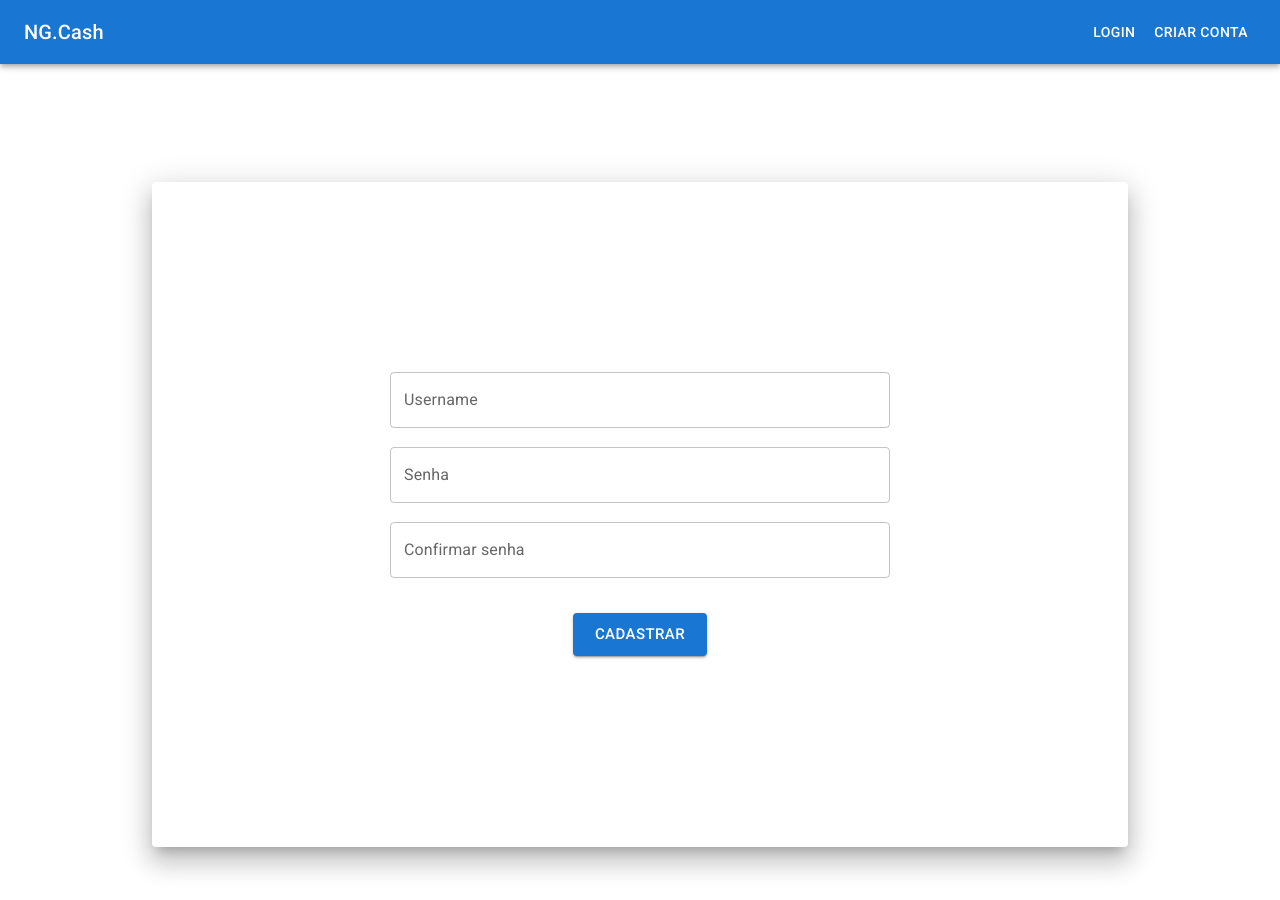
Test: Register page › App behavior › Should not allow create an account without invalid password format
The width and height of the screenshot is (1280, 900).
In the field labelled "Username": (640, 400) [390,372,890,428], type "user"
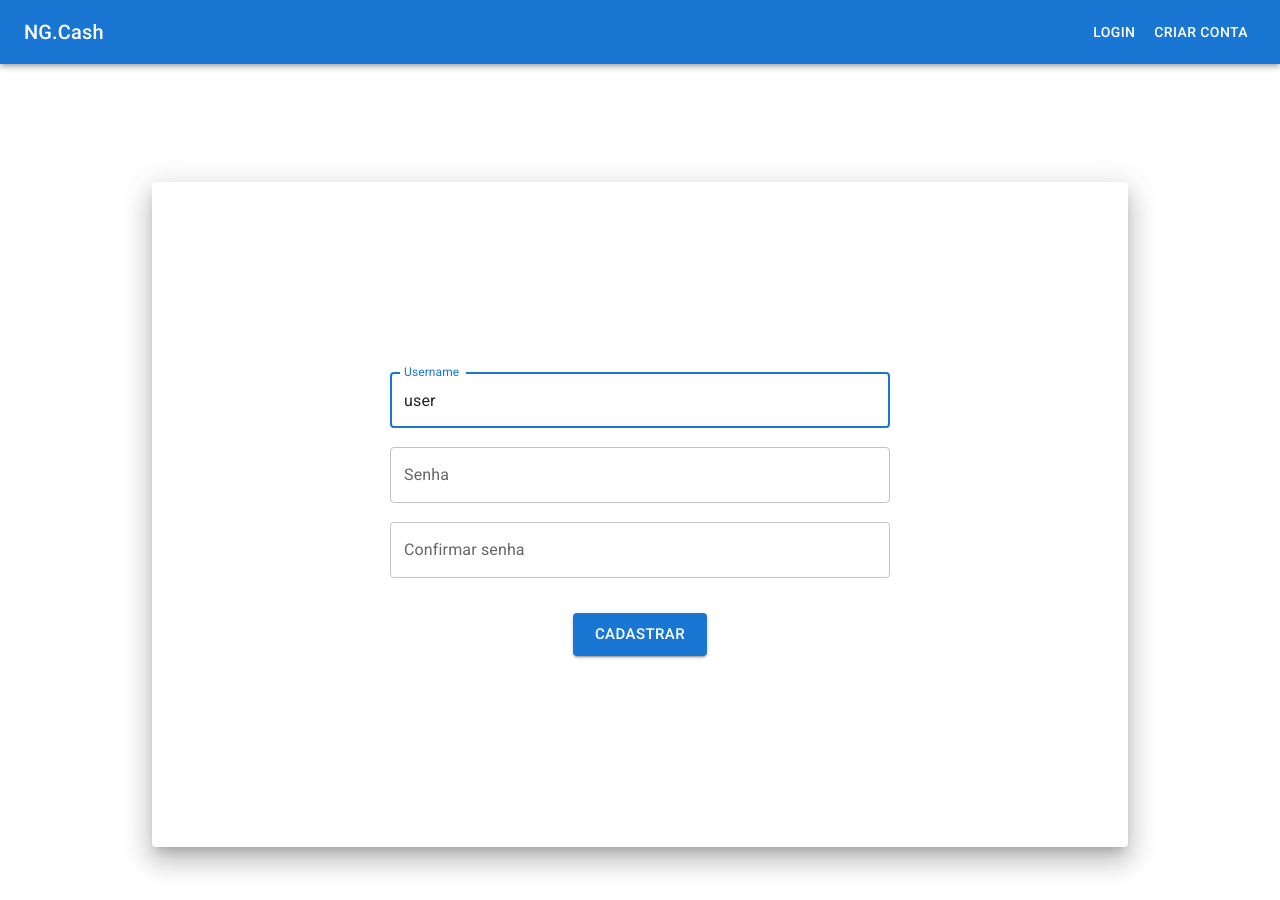
In the password field labelled "Senha": (640, 475) [390,447,890,503], type "user1234"
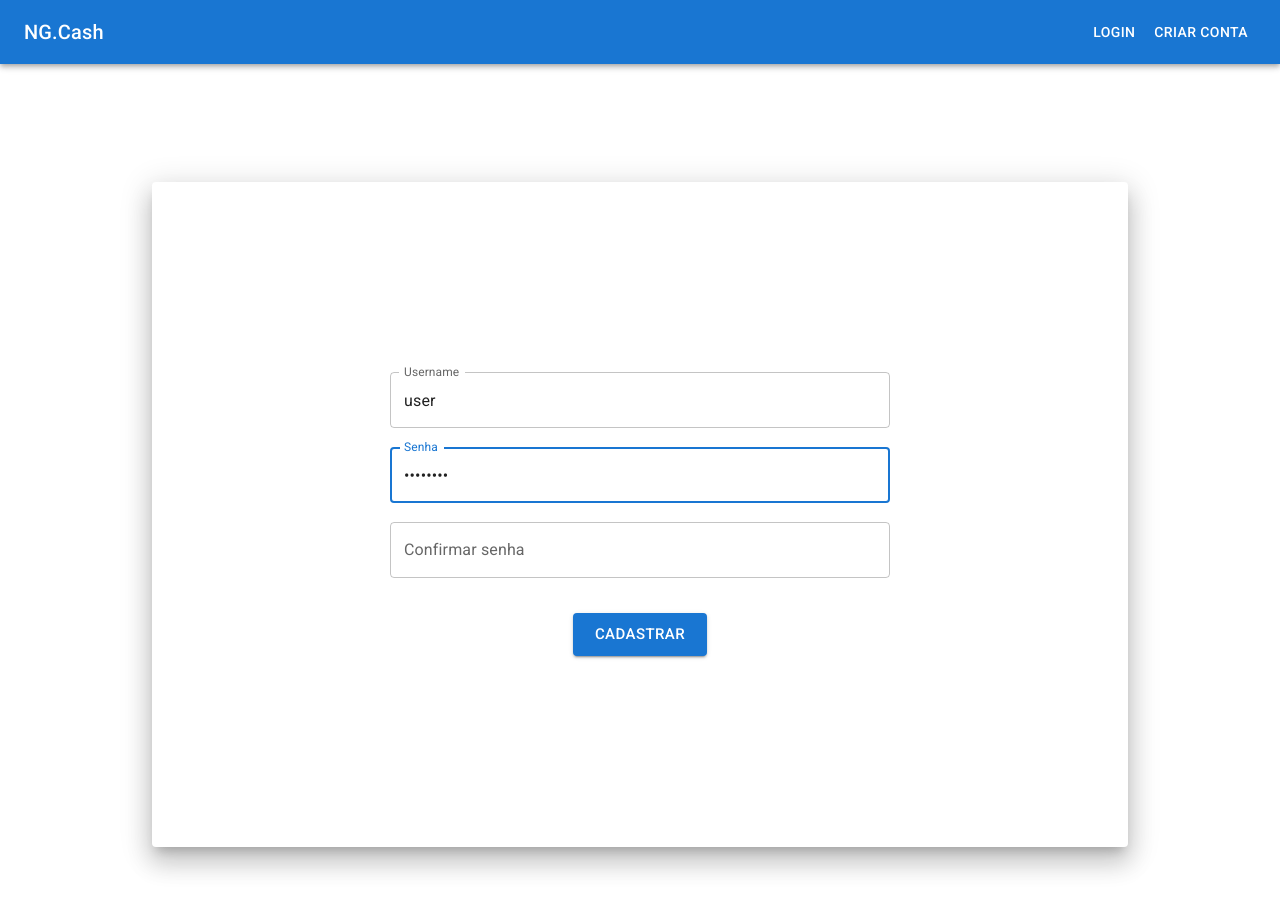
In the password field labelled "Confirmar senha": (640, 550) [390,522,890,578], type "user1234"
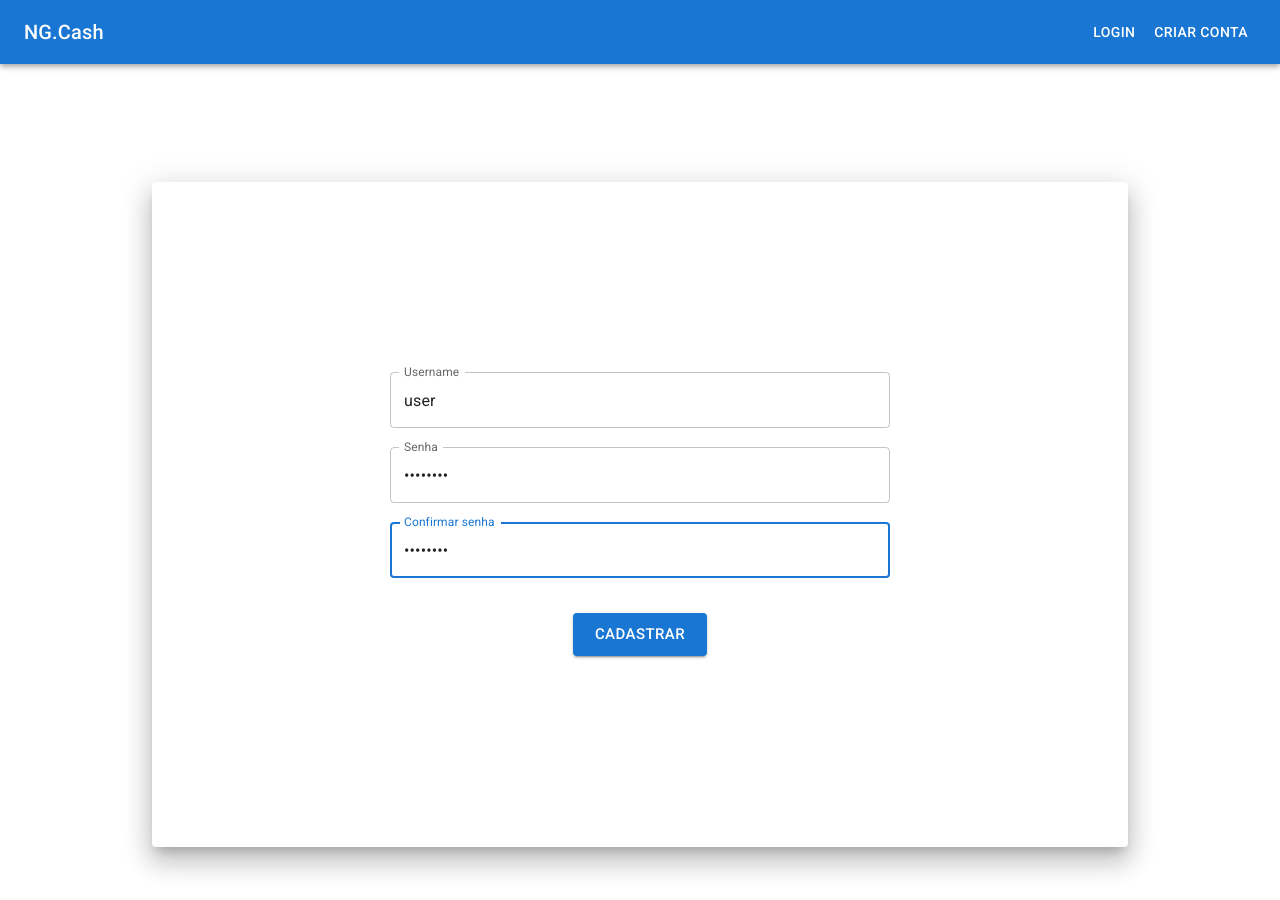
Click the button "Cadastrar": (640, 635) [573,613,707,656]
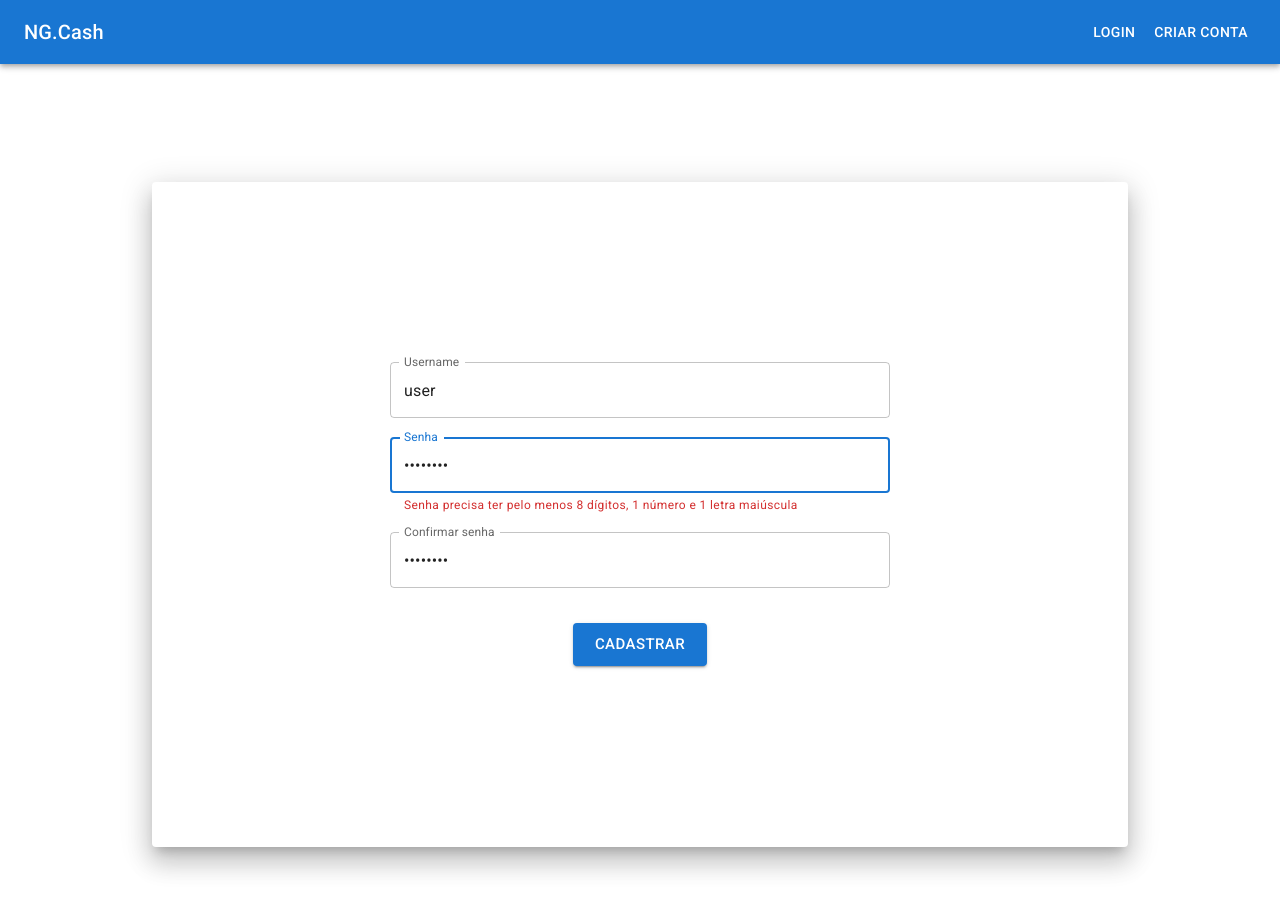
Now the text "Senha precisa ter pelo menos 8 dígitos, 1 número e 1 letra maiúscula" is shown, box [404,498,798,512]
